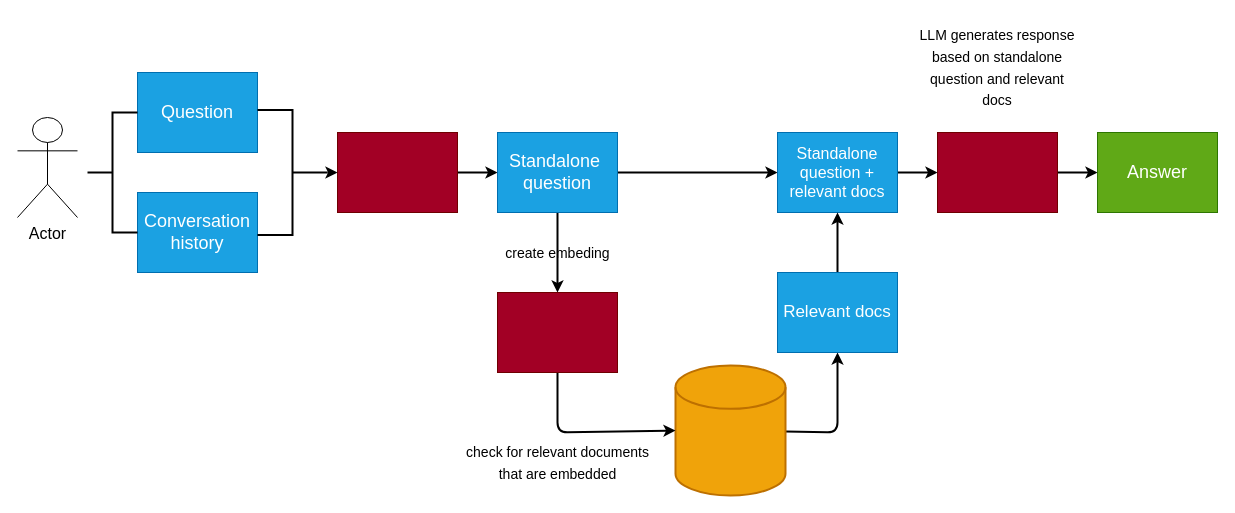
This 1235x513 diagram has some shape labels left out. Each missing label, with the box of its shape:
LLM: (936, 132, 1058, 212)
LLM (e.g. llama, GPT): (336, 132, 458, 212)
LLM embedings: (496, 292, 618, 372)
Vector DB: (674, 364, 786, 496)
